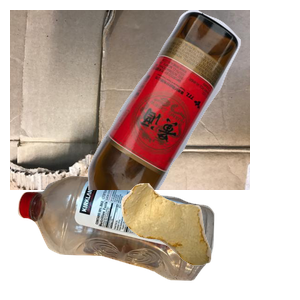cardboard: (10, 10, 250, 190)
glass: (85, 10, 300, 190)
plastic: (15, 173, 222, 300)
trash: (119, 181, 300, 300)
